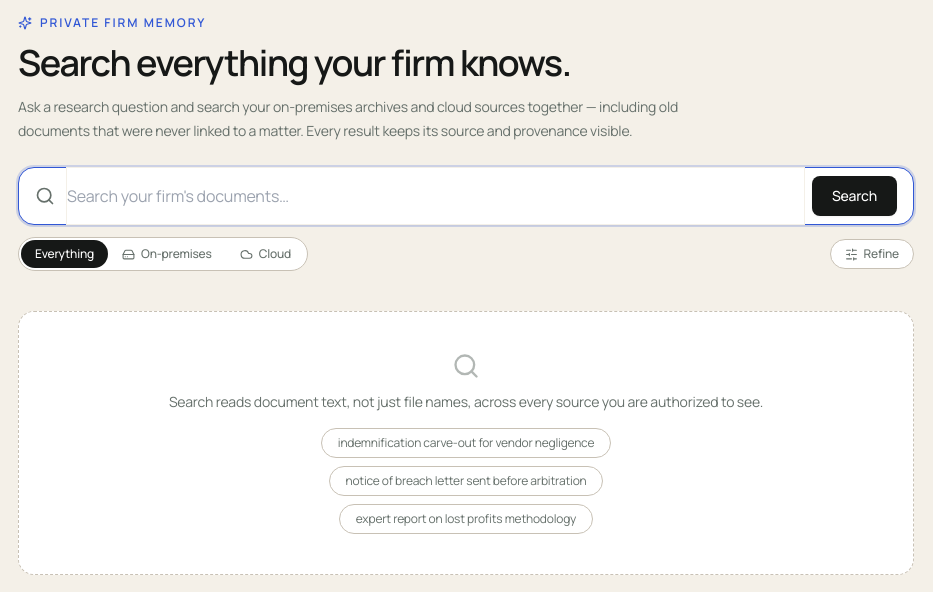
Scenario: UnifiedFirmMemoryPage › searches firm-wide by default and treats matter as an optional filter
The width and height of the screenshot is (933, 592).
Type "notice history" into the field named "Research query" at x=435, y=196, box x1=67 y1=168 x2=804 y2=224
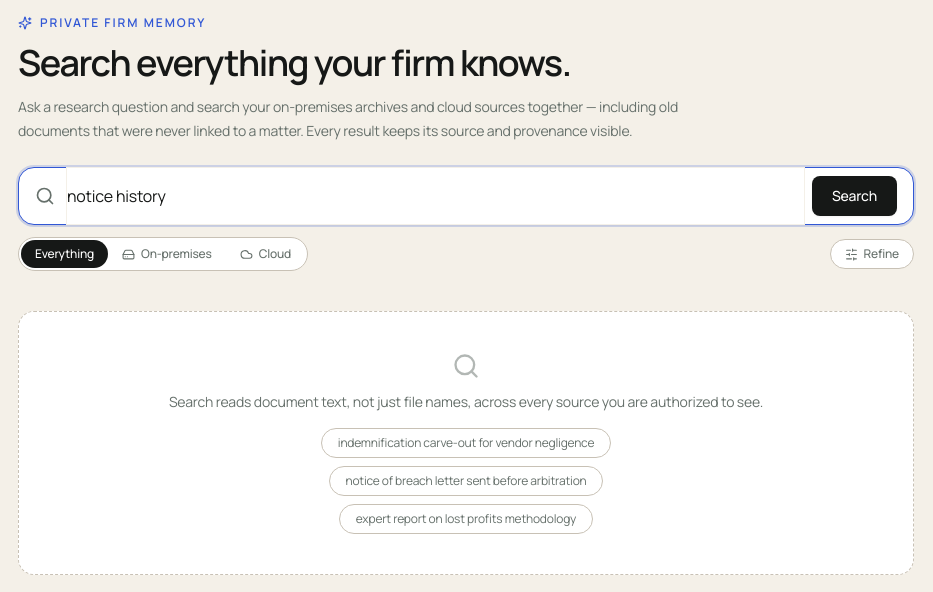
Click the button "Search" at x=854, y=196, box x1=812 y1=176 x2=897 y2=216
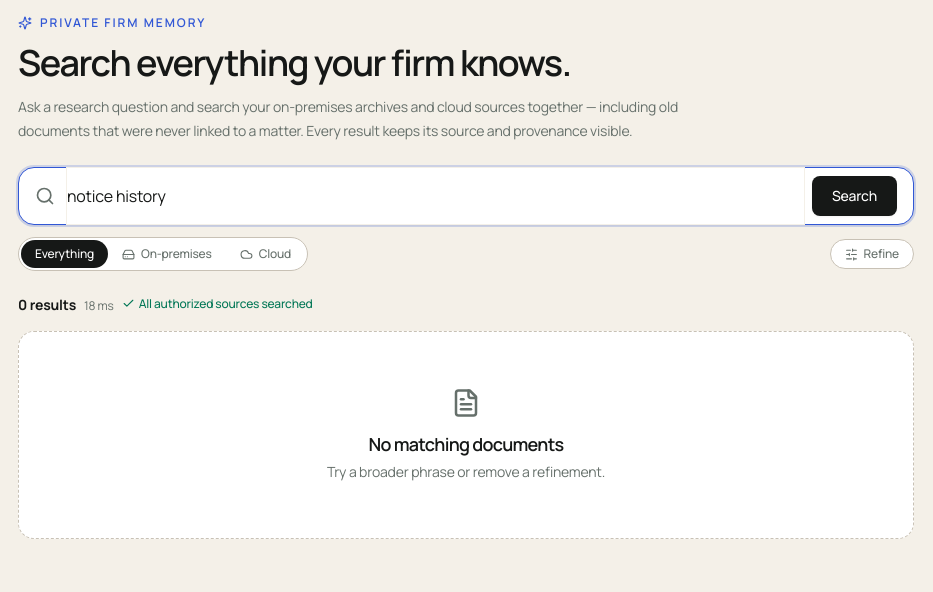
Now the heading "No matching documents" is shown, box x1=368 y1=432 x2=563 y2=456
Now the text "All authorized sources searched" is shown, box x1=122 y1=296 x2=313 y2=312
